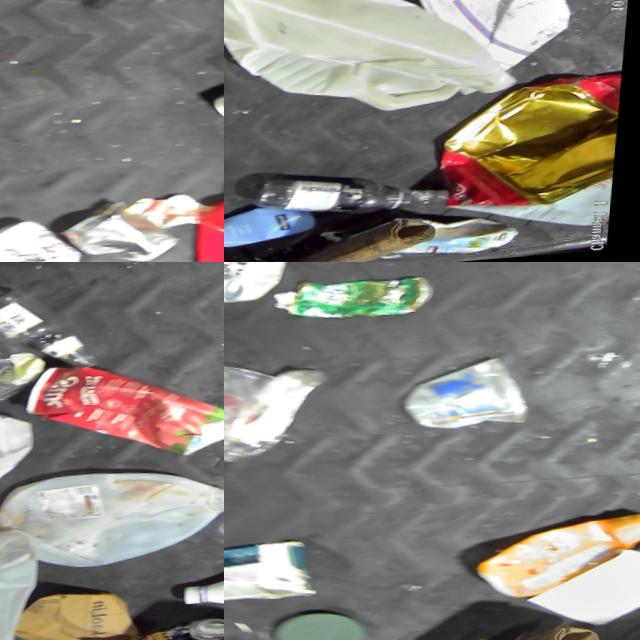can: (384, 357, 546, 438), (269, 273, 446, 328), (76, 213, 180, 262), (0, 222, 84, 262), (224, 262, 293, 307), (132, 614, 224, 640)
milk_jug: (224, 0, 532, 134), (13, 460, 224, 580), (0, 386, 47, 523), (0, 533, 47, 640)
non_white_jug: (34, 361, 224, 469), (482, 514, 640, 607)
plastic_bottle: (237, 168, 427, 230), (0, 279, 112, 381), (0, 309, 57, 403)
